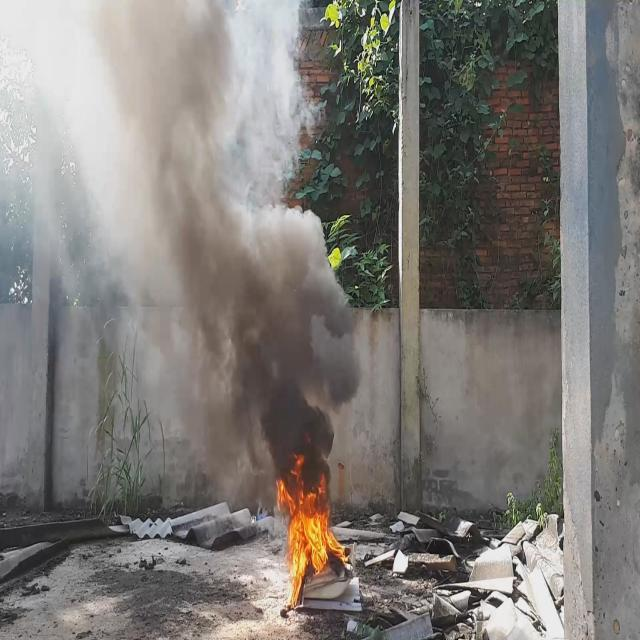Fire: (276, 469, 351, 609)
Smoke: (0, 0, 363, 503)
